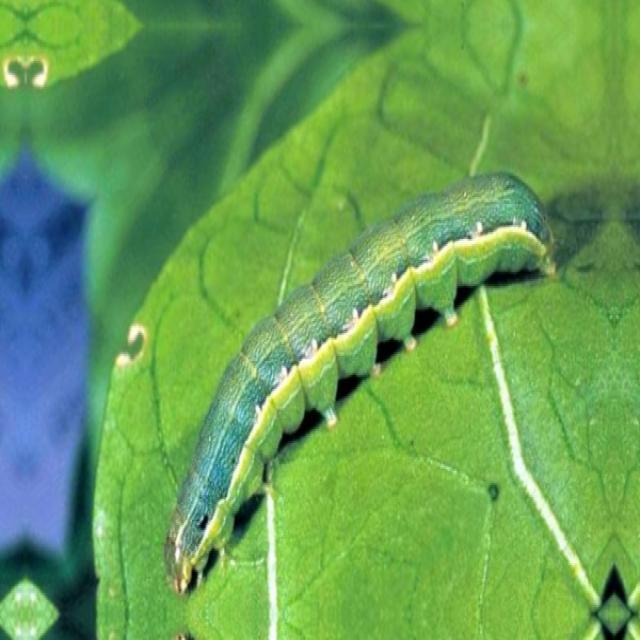Armyworm: (134, 148, 566, 591)
